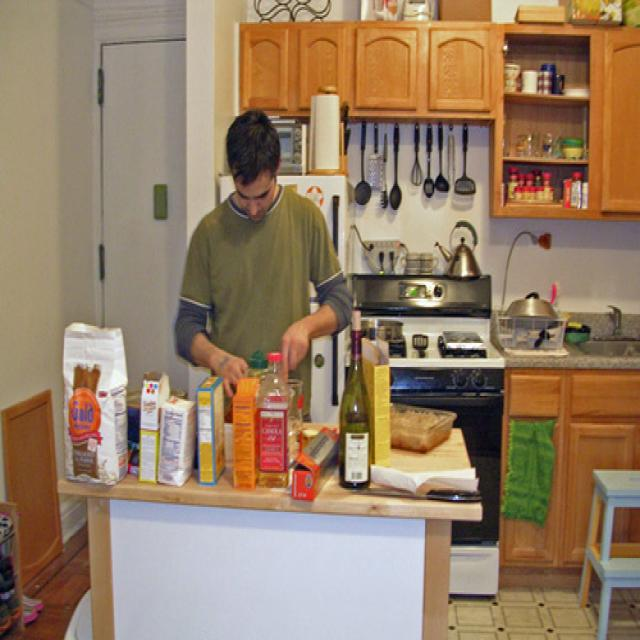chair: (577, 472, 640, 640)
dining table: (64, 374, 480, 511)
